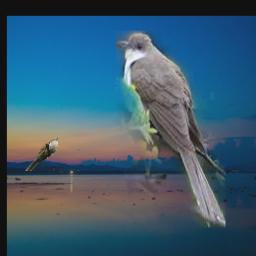Cuckoo: (116, 32, 226, 228), (26, 137, 59, 171)
